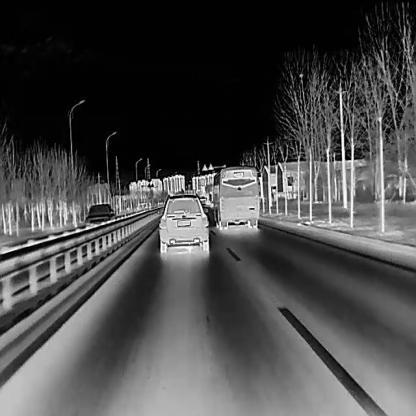car: (207, 164, 258, 230), (158, 193, 208, 254), (83, 203, 116, 232)
